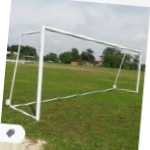goals: (9, 24, 142, 123)
